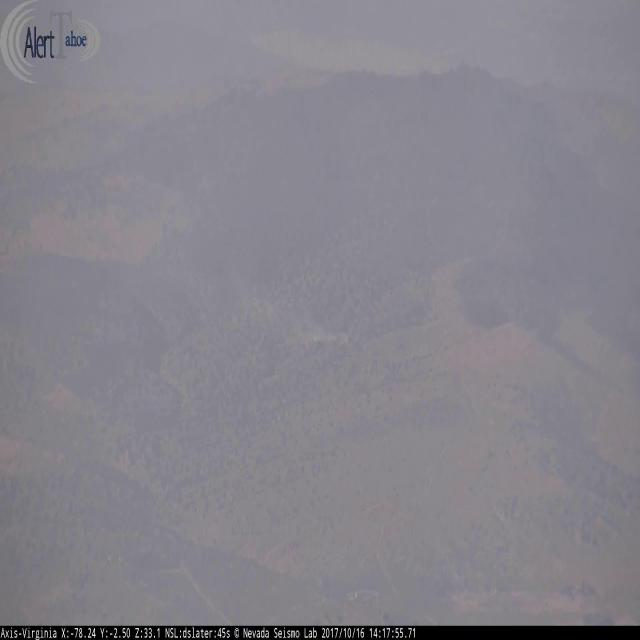smoke: (249, 272, 348, 356)
